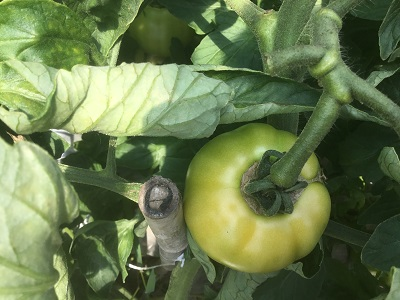immature-tomato: (183, 123, 333, 273)
